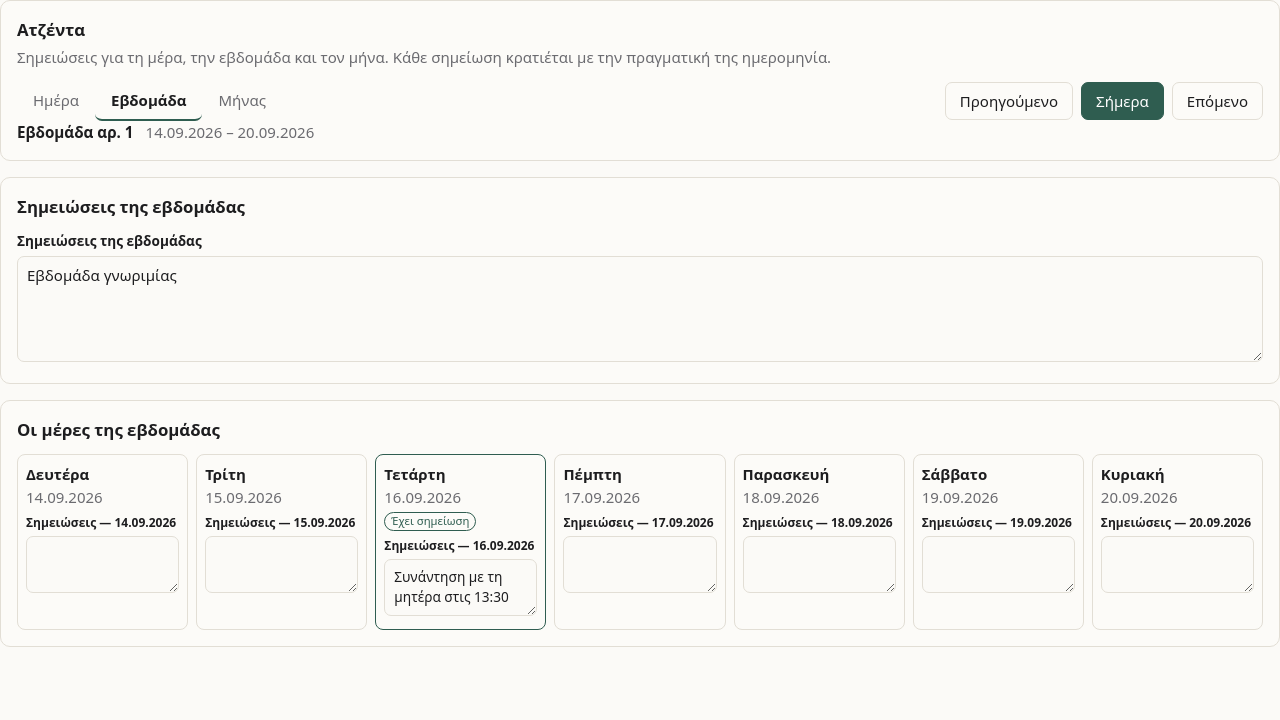
it: the agenda › navigation › steps to the adjacent week and back to today
What coordinates should you click on to do the following:
click the button "Επόμενο"
I would click on:
 (1217, 101)
Its box is [1172, 82, 1263, 120].
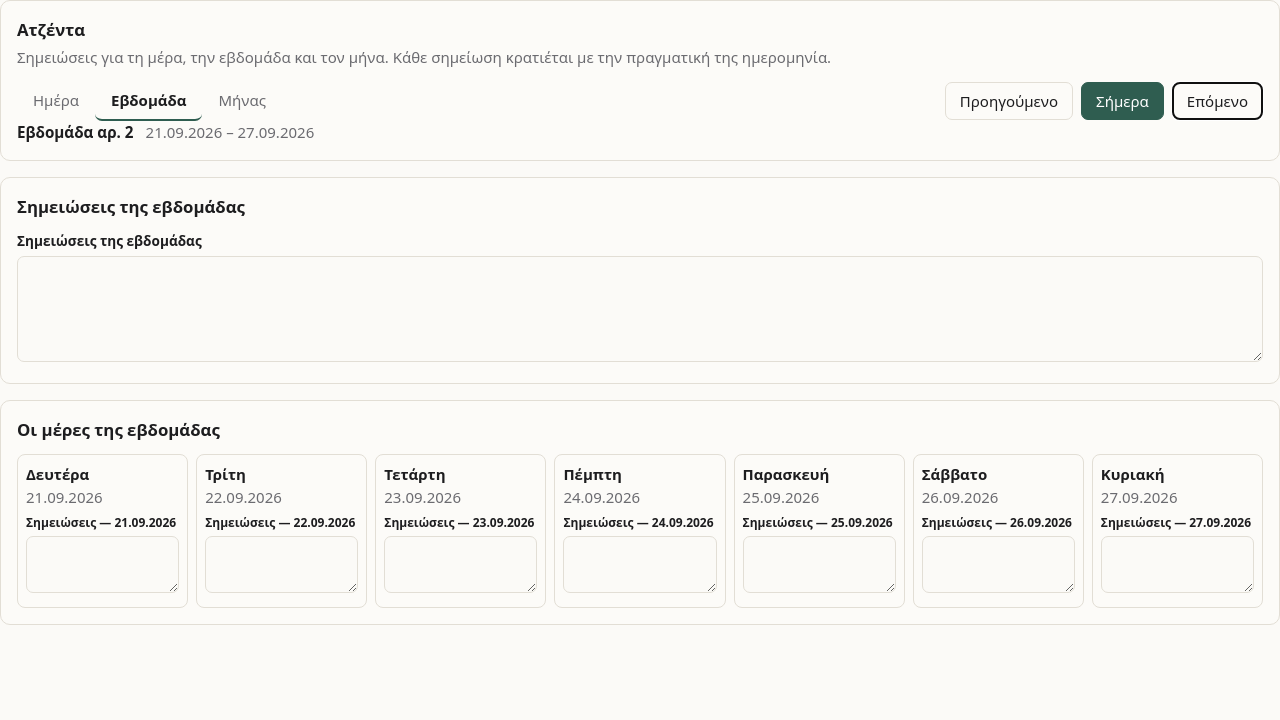
Expected: the text "21.09.2026 – 27.09.2026" is shown, [146, 121, 314, 144]
What coordinates should you click on to do the following:
click the button "Προηγούμενο"
I would click on:
 (1009, 101)
Its box is [945, 82, 1073, 120].
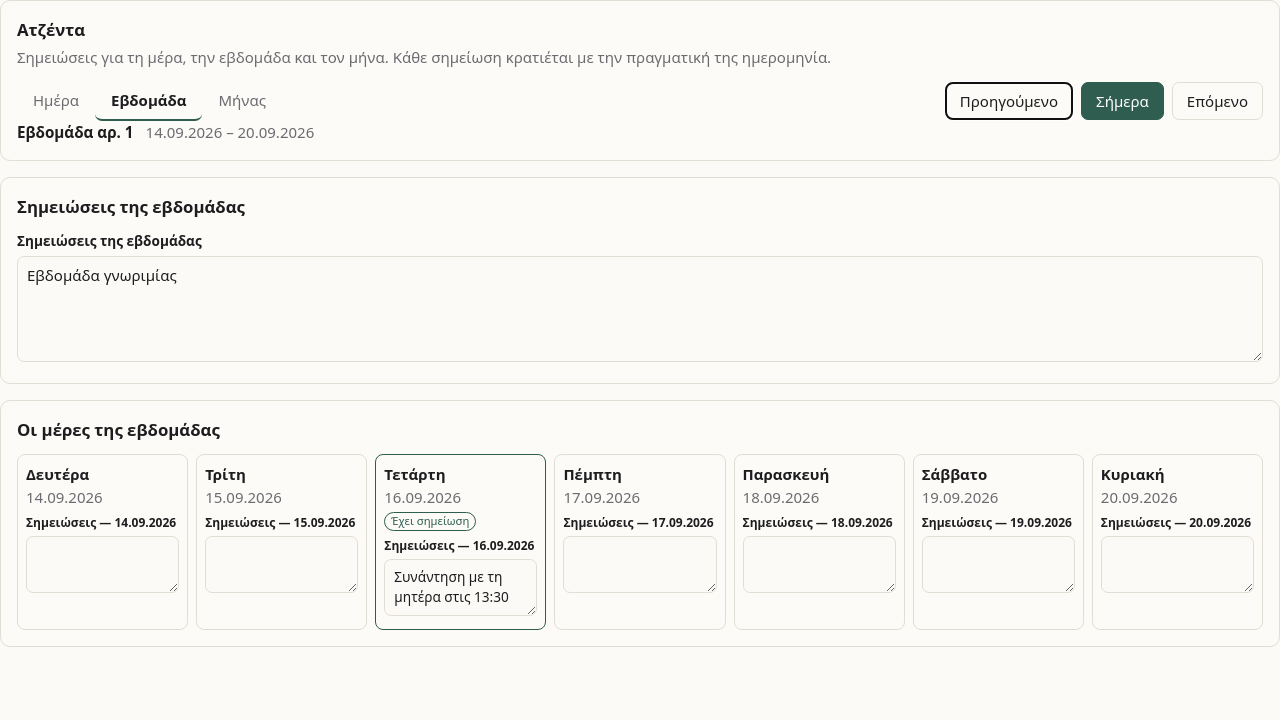
Expected: the text "14.09.2026 – 20.09.2026" is shown, [146, 121, 314, 144]
